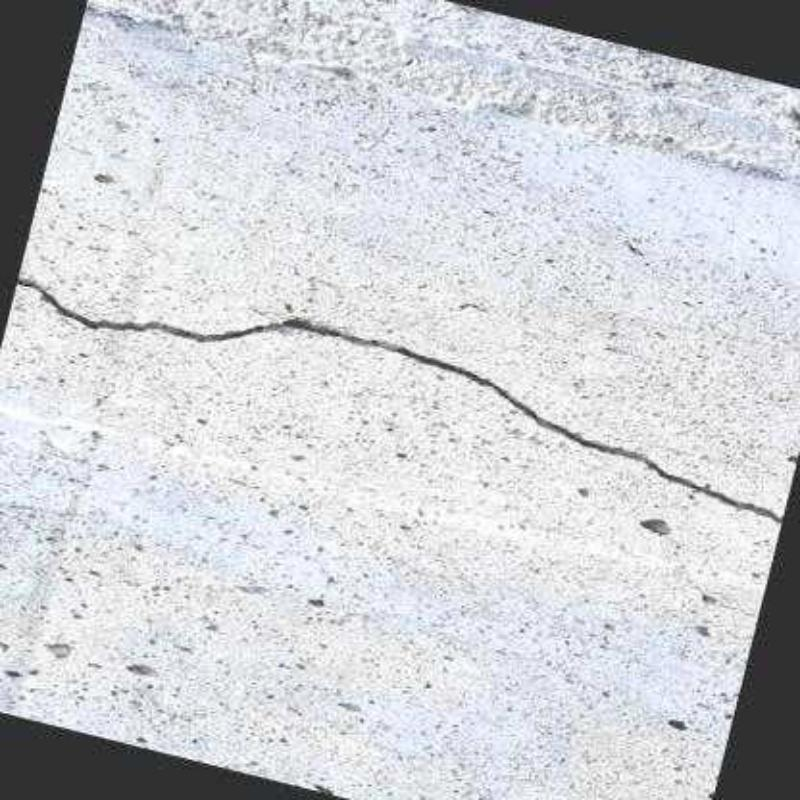crack: (20, 276, 784, 523)
